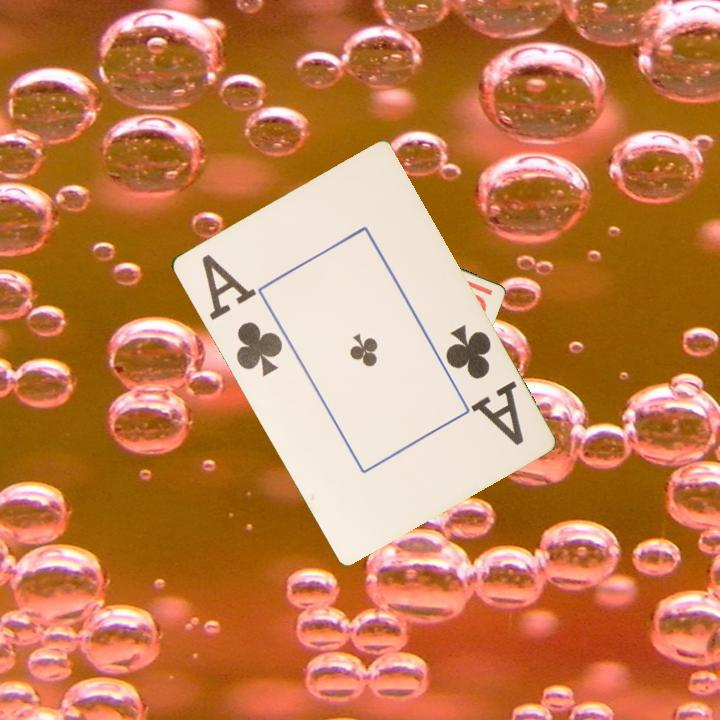Ac: (197, 250, 286, 380), (441, 320, 527, 448)
